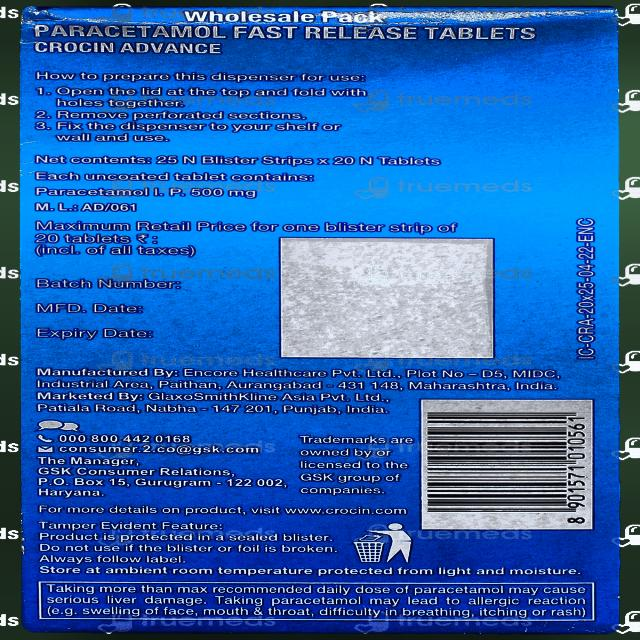Paracetamol: (28, 11, 617, 630)
